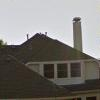Chimney: (65, 10, 86, 54)
